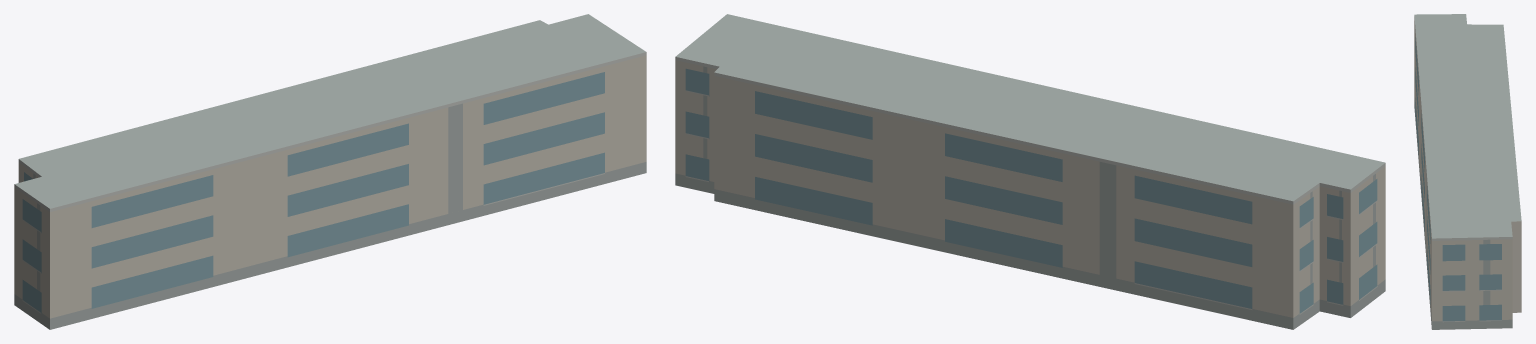
File: survey-upis-32542887.glb
The picture shows the model from 3 angles, left to right: view 1: azimuth 30°, elevation 25°; view 2: azimuth 150°, elevation 25°; view 3: azimuth 270°, elevation 25°; orthographic projection. The views are drawn at different scales.
Visible parts, largest first — view 1: survey-upis-32542887.tmp; view 2: survey-upis-32542887.tmp; view 3: survey-upis-32542887.tmp.
Part boxes in pixels (<box>): survey-upis-32542887.tmp: <box>14,14,646,329</box>; survey-upis-32542887.tmp: <box>675,14,1385,329</box>; survey-upis-32542887.tmp: <box>1414,14,1521,329</box>.
Size of the model in its own units: 48.24 by 9.15 by 9.75.
